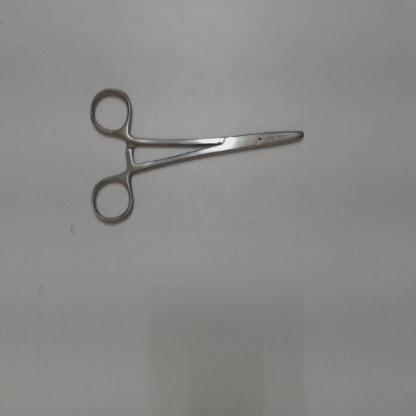Mayo Needle Holder: (81, 76, 314, 233)
